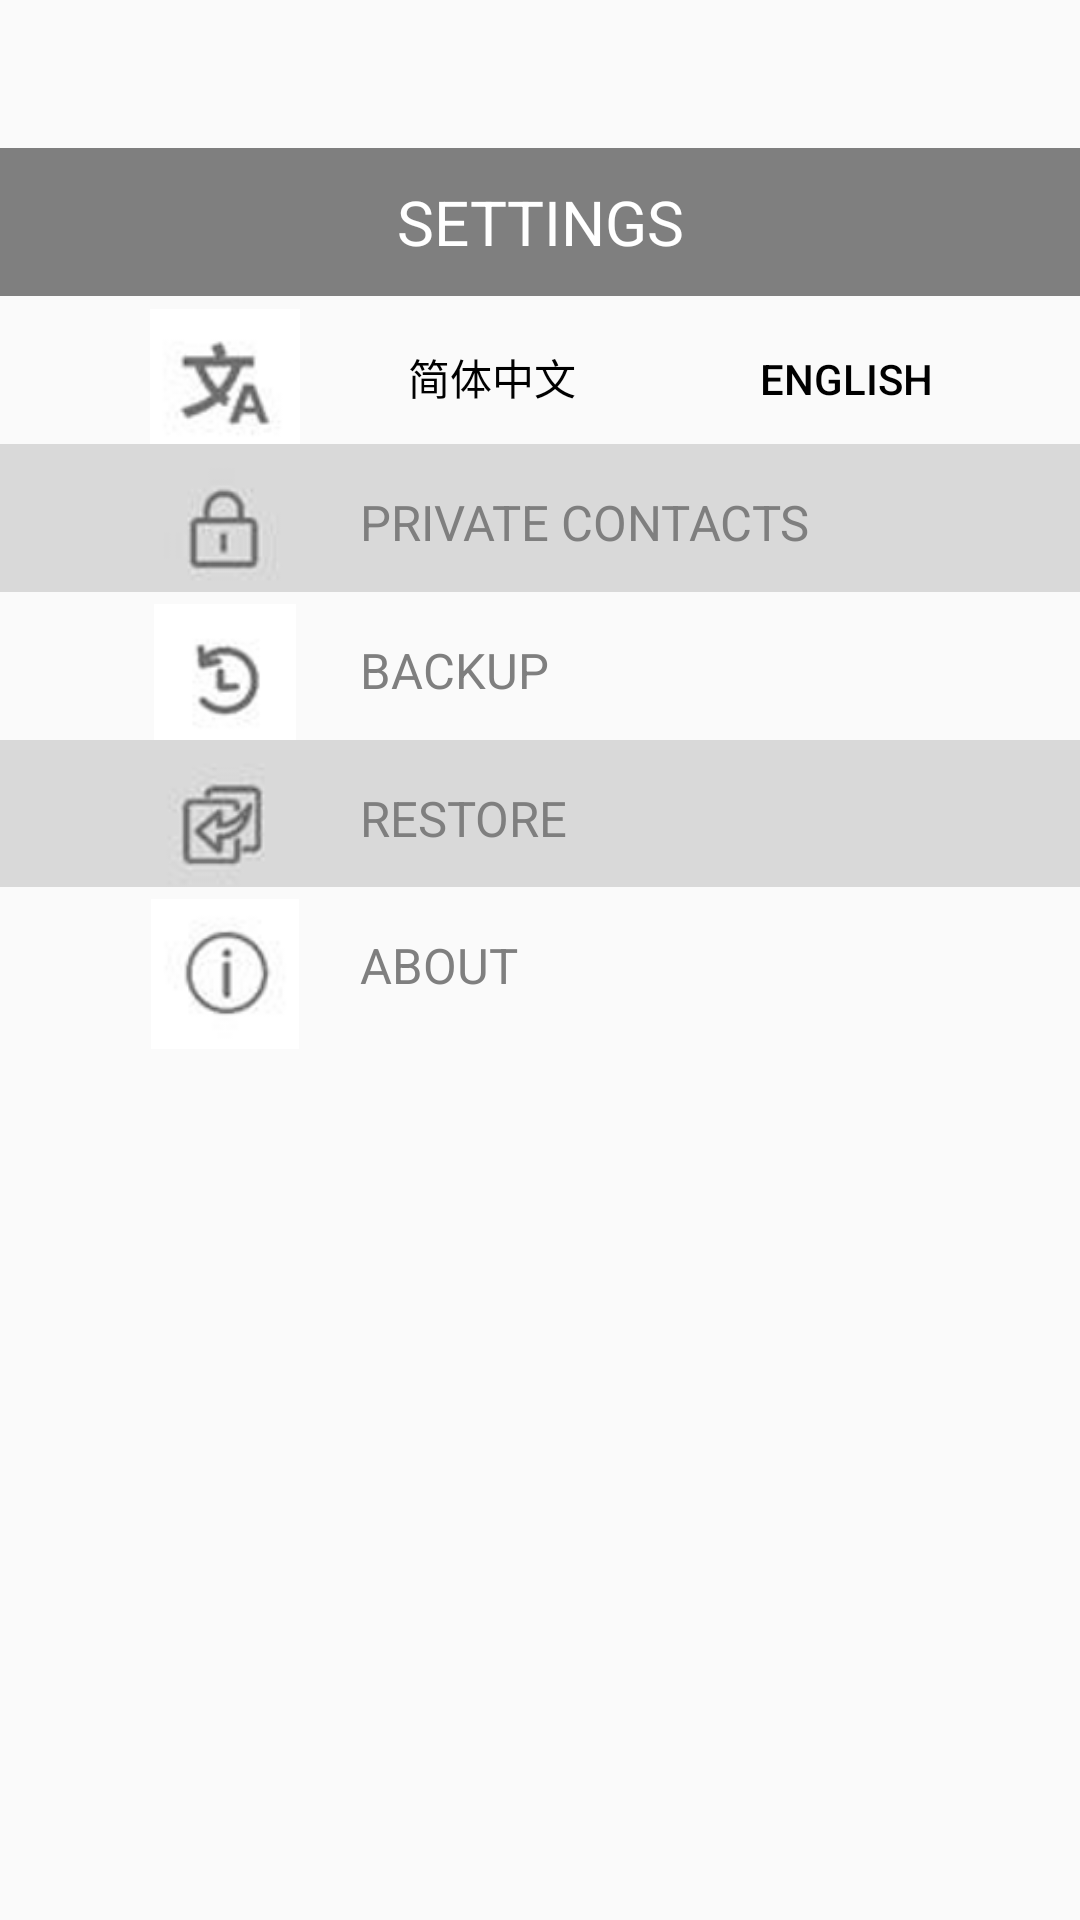

Screen size 1080×1920. Icon name, then its box in pixels as (x1, y1, x2, y2):
language: (180, 341, 270, 425)
